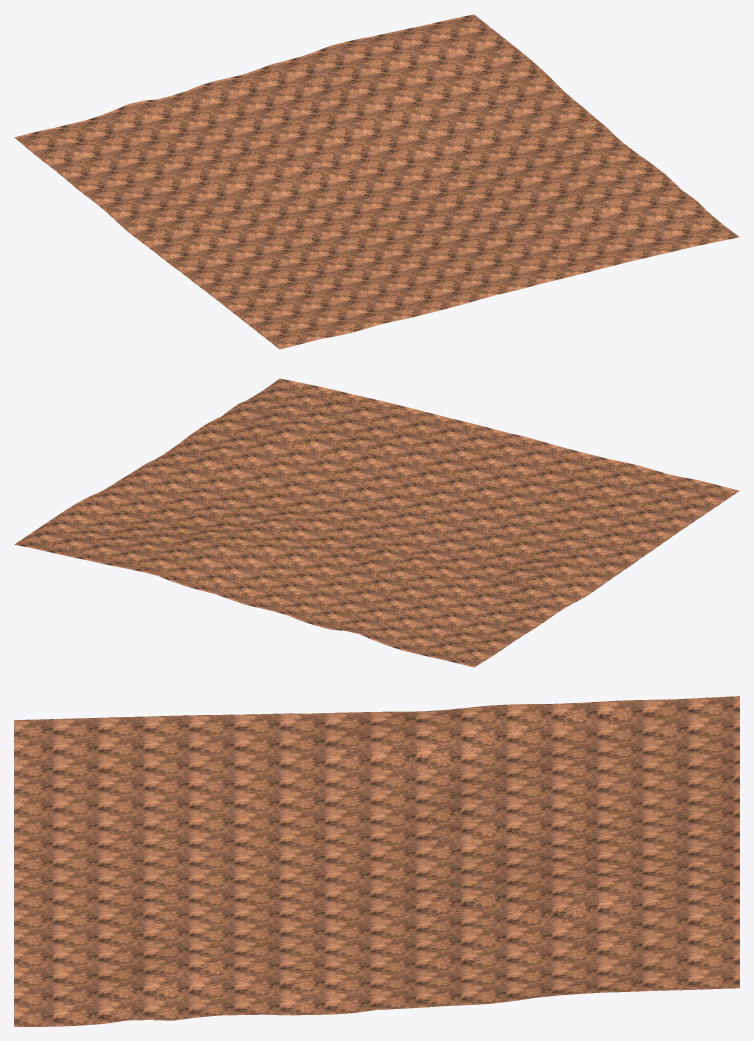
The model's file is terrain_07_15.dae.
3 views of the same model, one above another, from view 1: azimuth 30°, elevation 25°; view 2: azimuth 150°, elevation 25°; view 3: azimuth 270°, elevation 25° (orthographic). The views are drawn at different scales.
Parts seen in each view (by area): view 1: terrain_07_15-node; view 2: terrain_07_15-node; view 3: terrain_07_15-node.
Boxes of the visible parts, x1,y1,x2,y2 form: terrain_07_15-node: (14, 14, 739, 349); terrain_07_15-node: (14, 378, 739, 667); terrain_07_15-node: (14, 696, 739, 1026).
Size of the model in its own units: 128 by 128 by 8.83.
1 material, 1 textured.
